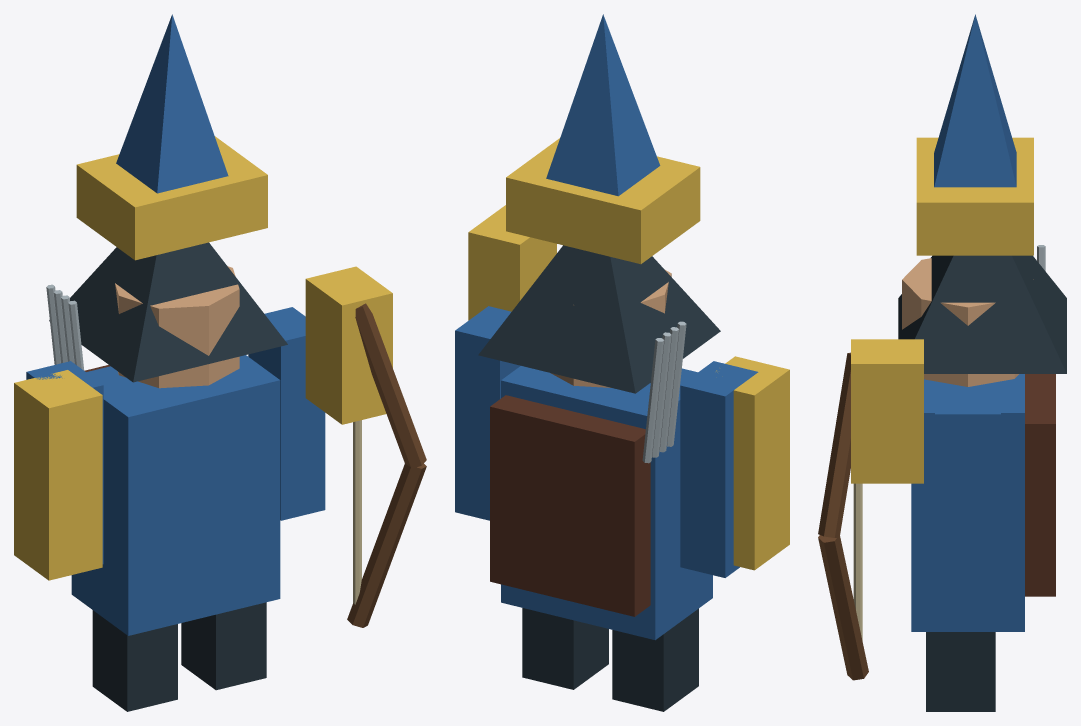
The model's file is ranged.obj.
3 renders of one model, left to right at view 1: azimuth 30°, elevation 25°; view 2: azimuth 150°, elevation 25°; view 3: azimuth 270°, elevation 25°, orthographic.
Visible parts, largest first — view 1: ranged; view 2: ranged; view 3: ranged.
Boxes of the visible parts, x1=… form: ranged: x1=14, y1=14, x2=426, y2=711; ranged: x1=455, y1=14, x2=789, y2=711; ranged: x1=818, y1=14, x2=1066, y2=711.
Bounding box in the file's own units: 1.05 × 2 × 0.6796.
